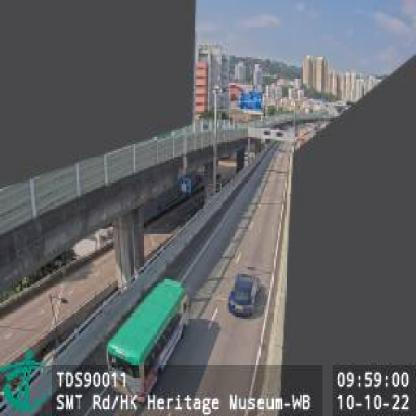Car: (227, 268, 261, 318)
Minibus: (107, 276, 189, 405)
